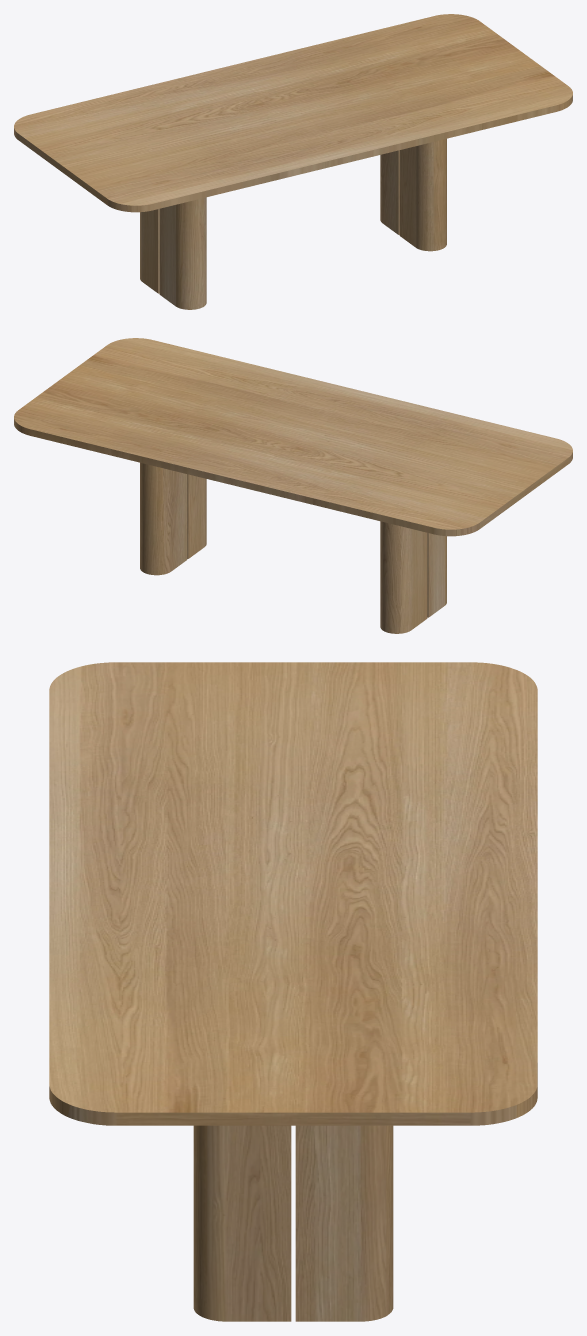
The picture shows the model from 3 angles, top to bottom: view 1: azimuth 30°, elevation 25°; view 2: azimuth 150°, elevation 25°; view 3: azimuth 270°, elevation 25°; orthographic projection. The views are drawn at different scales.
Size of the model in its own units: 2.4 by 0.753 by 1.1.
Materials: 1 (1 with a texture image).
